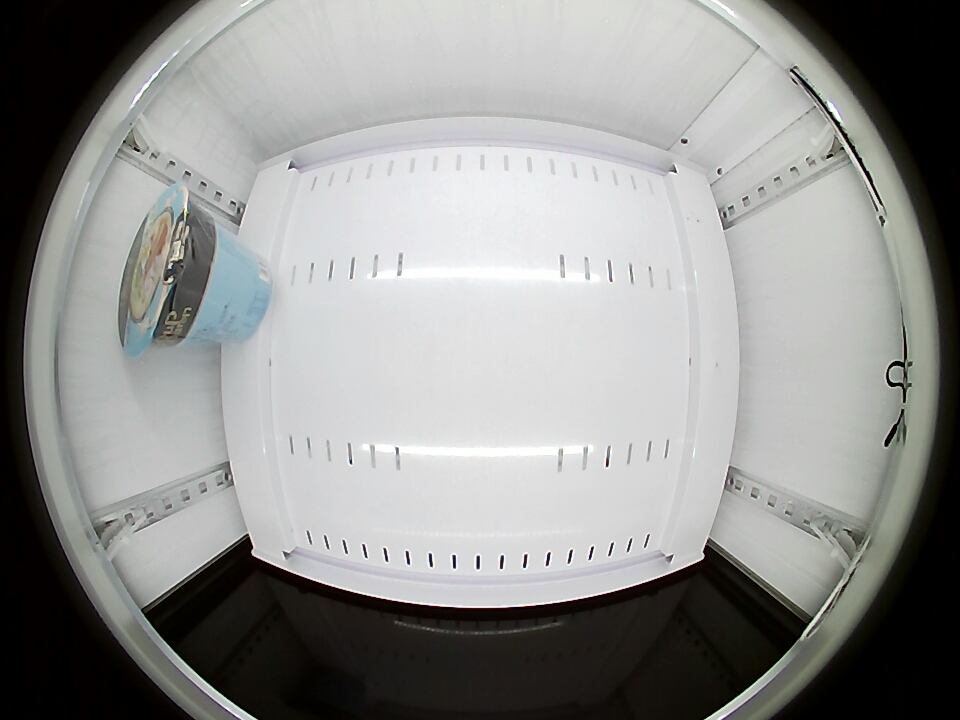tangdaren3: (117, 182, 217, 358)
